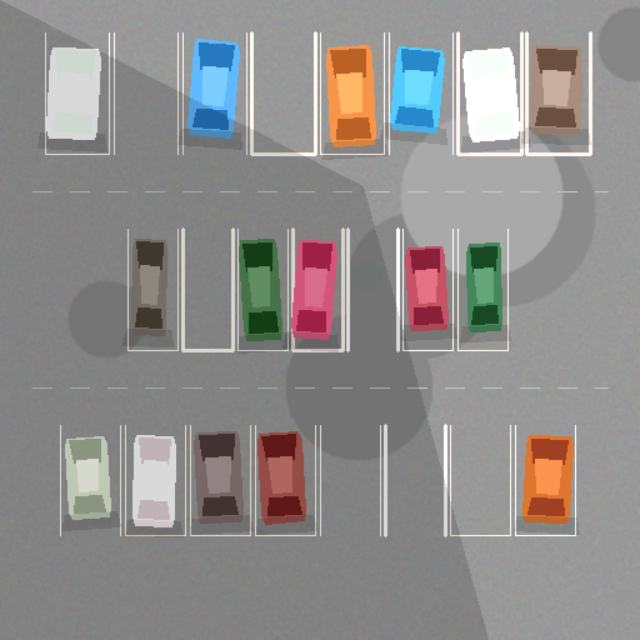space-empty: (251, 33, 315, 154), (114, 33, 177, 154), (320, 425, 380, 535), (385, 425, 445, 535), (450, 425, 510, 535), (183, 229, 233, 350), (347, 229, 397, 350)
space-occupied: (45, 33, 109, 154), (320, 33, 384, 154), (389, 33, 453, 154), (457, 33, 521, 154), (526, 33, 590, 154), (183, 33, 246, 154), (60, 425, 120, 535), (125, 425, 185, 535), (190, 425, 250, 535), (255, 425, 315, 535), (515, 425, 575, 535), (127, 229, 177, 350), (237, 229, 287, 350), (293, 229, 343, 350), (403, 229, 453, 350), (457, 229, 507, 350)
